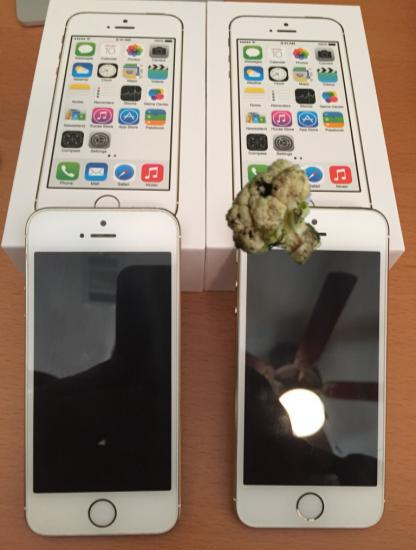Cauliflower: (227, 166, 334, 273)
